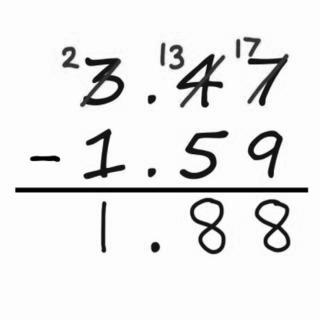.: (141, 162, 160, 184), (142, 90, 161, 112), (145, 235, 163, 257)
1: (80, 125, 128, 182), (92, 198, 116, 259)
5: (178, 128, 229, 182)
8: (248, 195, 297, 261), (183, 195, 232, 260)
9: (242, 127, 294, 181)
